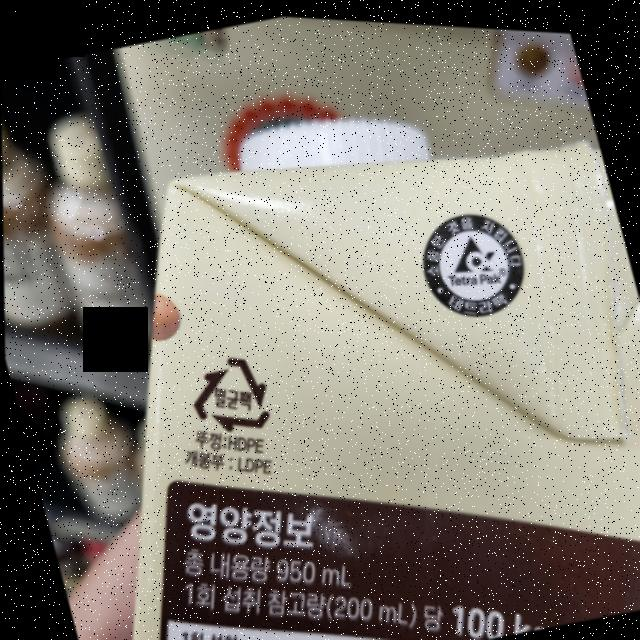SterilizedPack: (176, 342, 274, 439)
